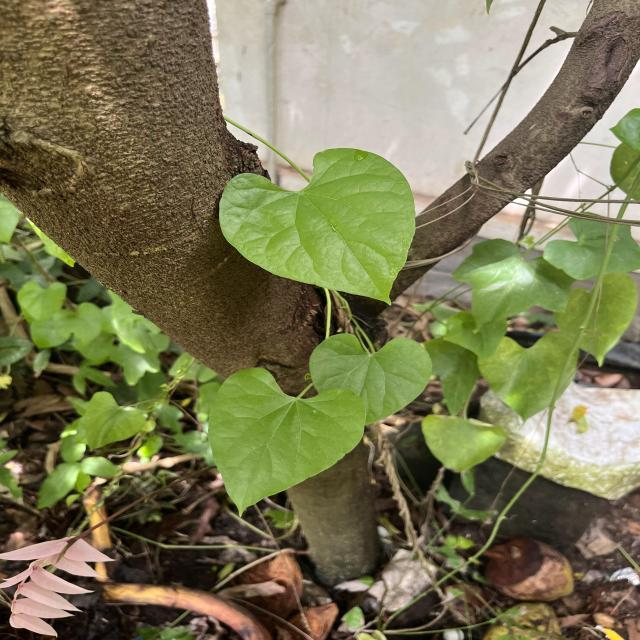Tinospora cordifolia: (216, 145, 419, 309), (205, 364, 368, 520), (306, 329, 436, 428)
